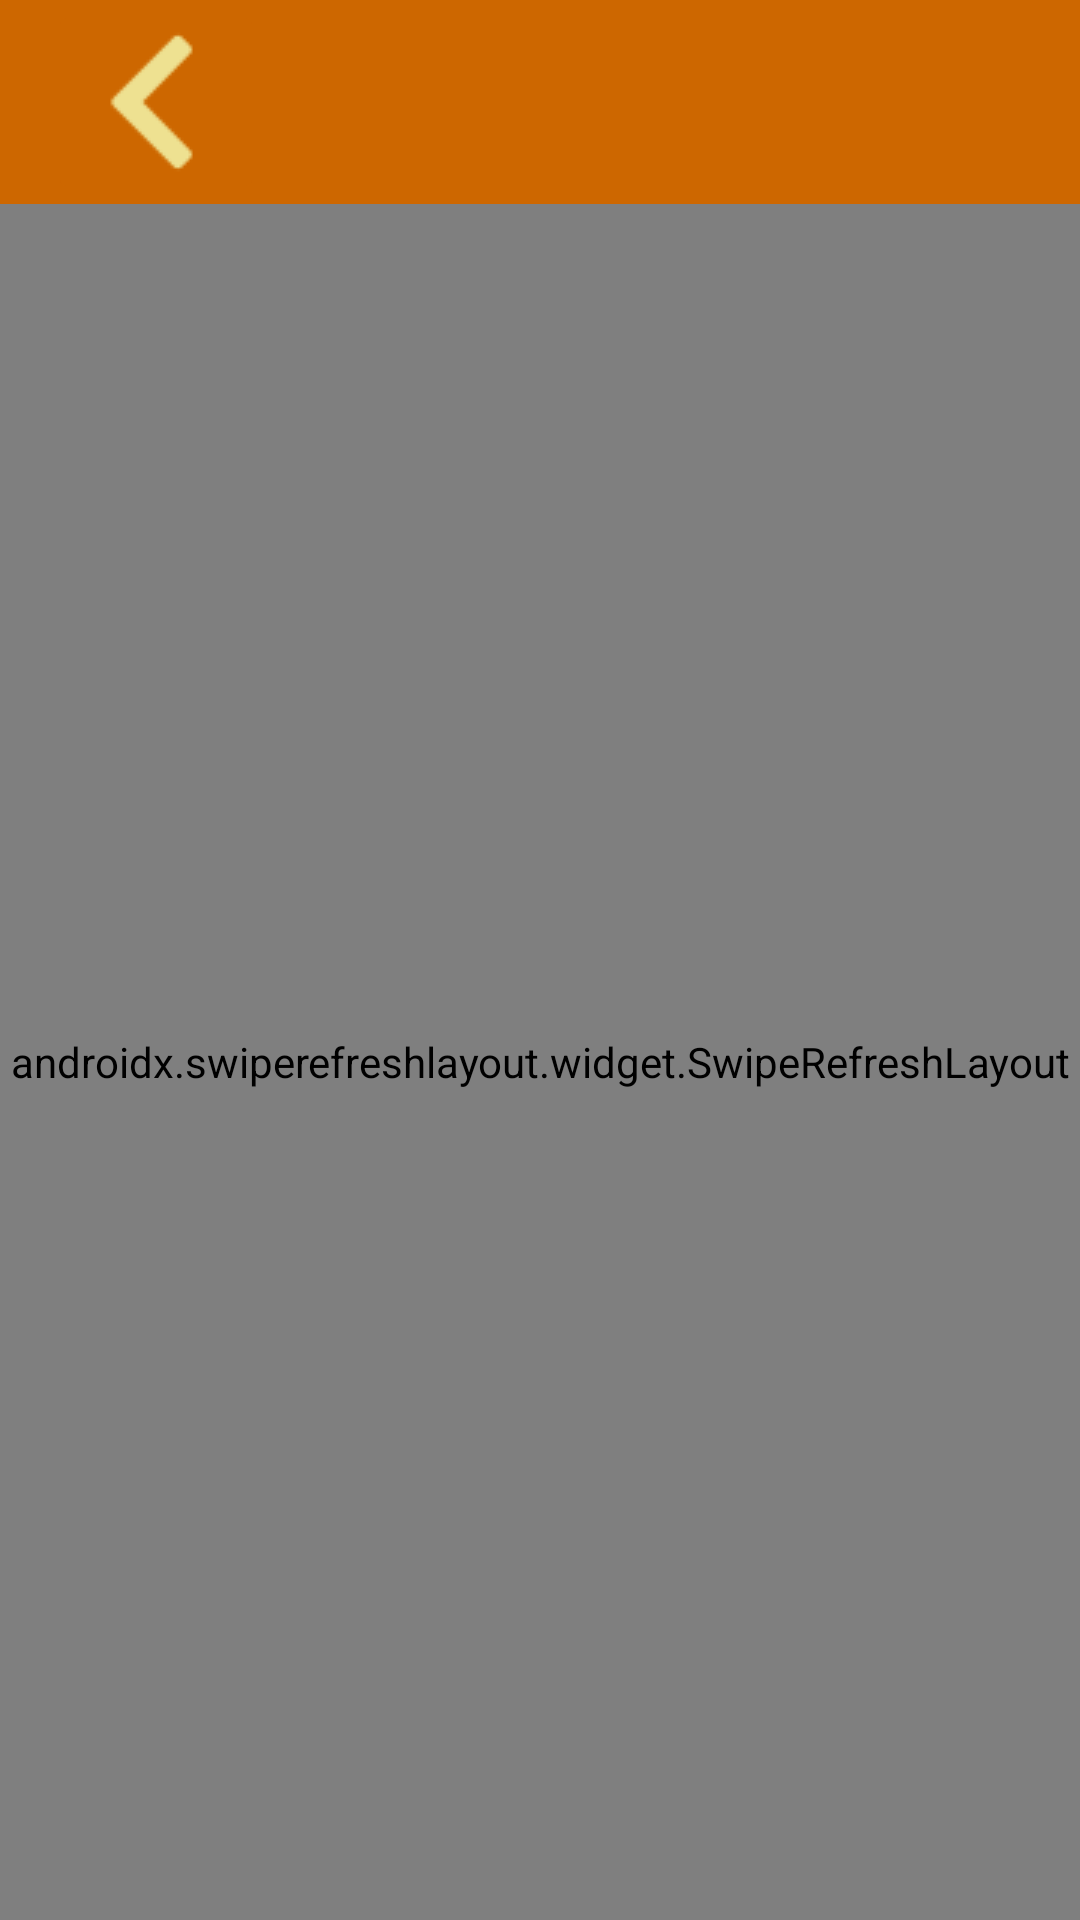

Icon click points for this 1080px x 1920px phone screenshot, format point (x, y):
back: point (151, 102)
